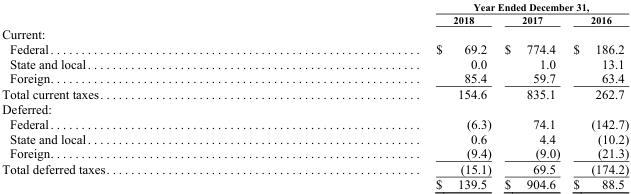table: (1, 1, 628, 191)
table column: (1, 1, 269, 191), (269, 1, 497, 191), (497, 1, 566, 191), (566, 1, 628, 191)
table column header: (1, 1, 628, 25)
table projected row header: (1, 25, 628, 40), (1, 101, 628, 115)
table row: (1, 85, 628, 101), (1, 160, 628, 176), (1, 25, 628, 40), (1, 40, 628, 55), (1, 55, 628, 70), (1, 70, 628, 85), (1, 115, 628, 130), (1, 130, 628, 145), (1, 145, 628, 160), (1, 176, 628, 191), (1, 101, 628, 115), (1, 1, 628, 13), (1, 13, 628, 25)
table spanning cell: (269, 1, 628, 13)
